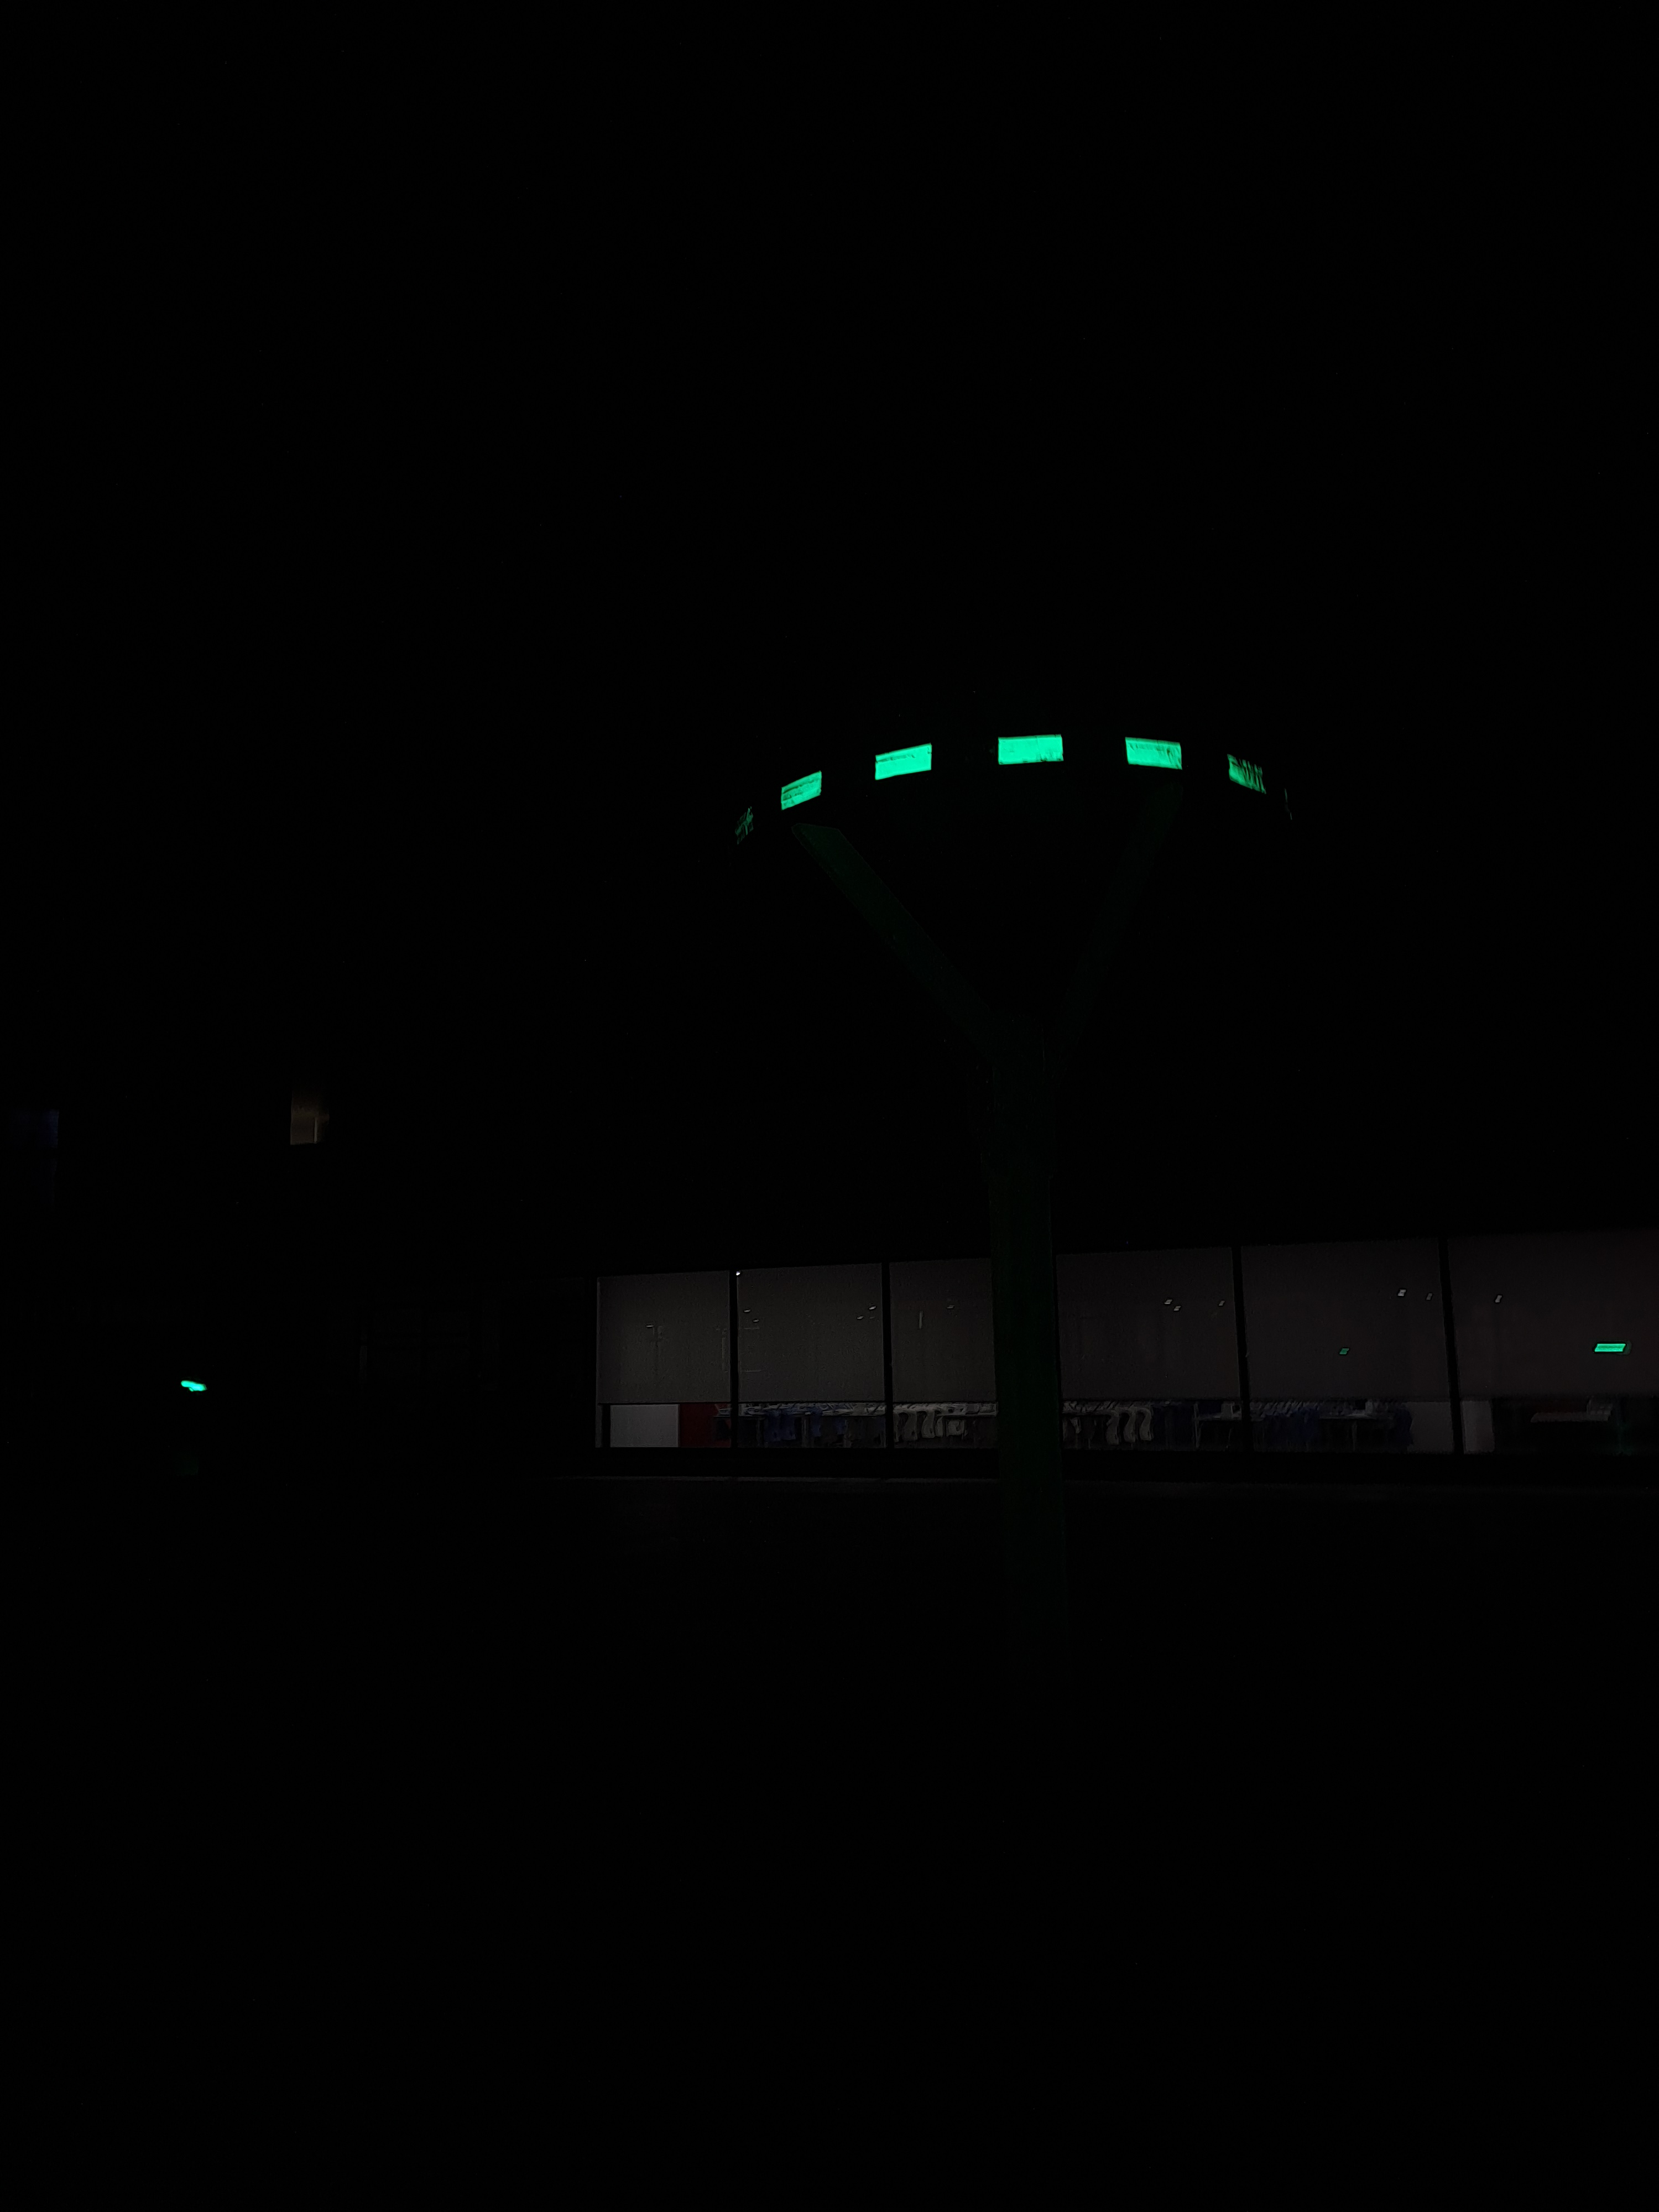hoop: (762, 732, 1281, 817)
